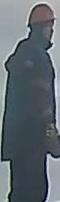gloves: (43, 122, 60, 159)
helmet: (24, 1, 59, 28)
vest: (1, 42, 60, 159)
